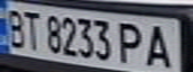2: (57, 14, 78, 57)
3: (90, 16, 118, 62), (75, 15, 96, 60)
8: (42, 11, 63, 55)
A: (139, 20, 178, 70)
B: (0, 4, 30, 50)
P: (115, 19, 151, 66)
T: (21, 8, 45, 52)
